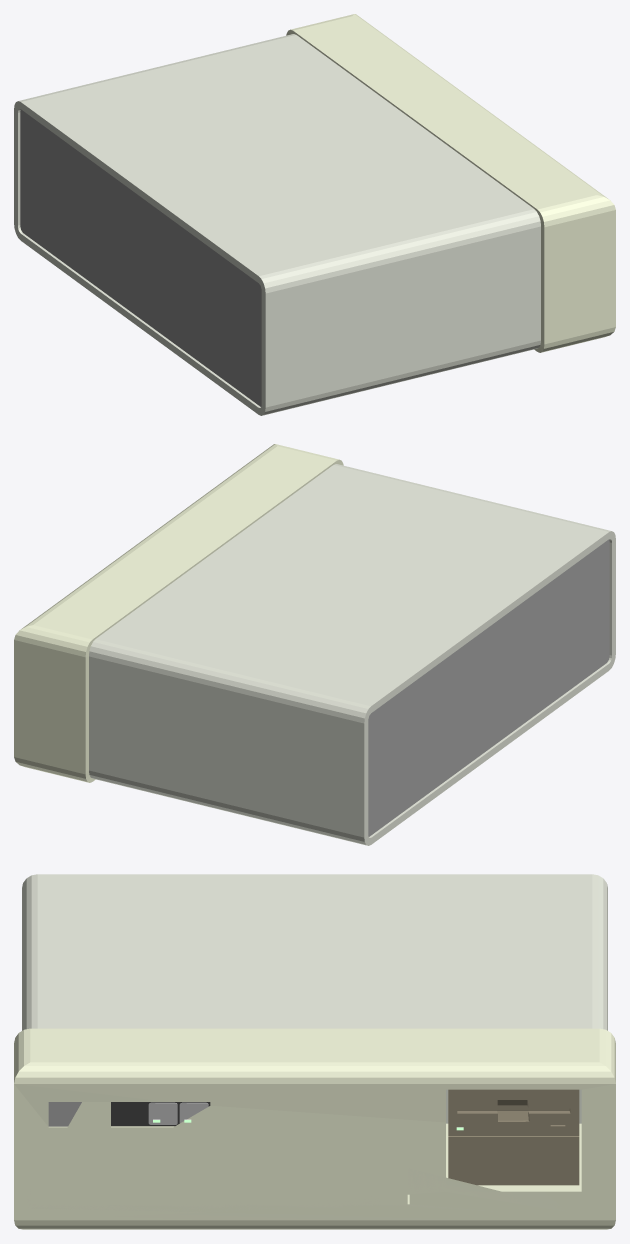
File: new_computer.fbx
The picture shows the model from 3 angles, top to bottom: view 1: azimuth 30°, elevation 25°; view 2: azimuth 150°, elevation 25°; view 3: azimuth 270°, elevation 25°; orthographic projection. The views are drawn at different scales.
Visible parts, largest first — view 1: cpu; view 2: cpu; view 3: cpu.
Part boxes in pixels (left/top/right/bottom): cpu: left=14, top=14, right=615, bottom=415; cpu: left=14, top=444, right=615, bottom=845; cpu: left=14, top=874, right=615, bottom=1229.
Bounding box in the file's own units: 280 × 110 × 361.
